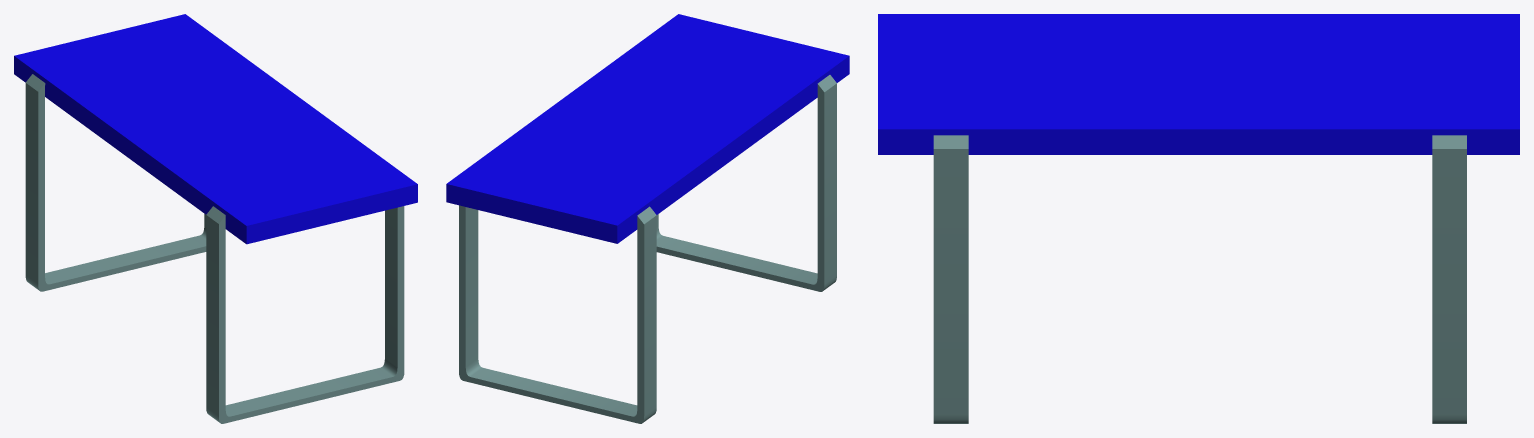
The model's file is A_JD_LivingroomTable_001.fbx.
3 renders of one model, left to right at view 1: azimuth 30°, elevation 25°; view 2: azimuth 150°, elevation 25°; view 3: azimuth 270°, elevation 25°, orthographic. The views are drawn at different scales.
Visible parts, largest first — view 1: Box001; view 2: Box001; view 3: Box001.
Boxes of the visible parts, bbox=[...] form: Box001: bbox=[14, 14, 417, 423]; Box001: bbox=[446, 14, 849, 423]; Box001: bbox=[878, 14, 1519, 423].
Bounding box in the file's own units: 65.7 × 71.68 × 143.
